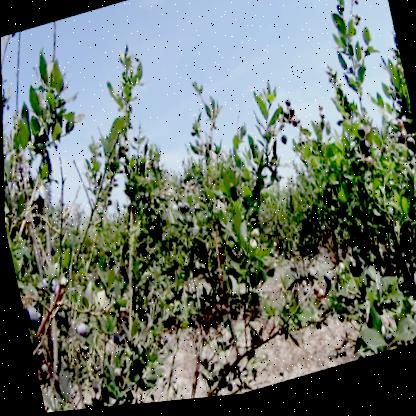mature: (22, 302, 42, 331), (76, 324, 89, 340)
young: (246, 232, 262, 256)
